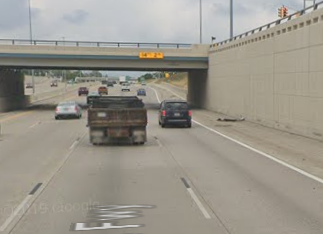1: (140, 51, 144, 57)
2: (152, 51, 157, 58)
4: (142, 51, 149, 58)
overheadsign: (138, 50, 163, 60)
